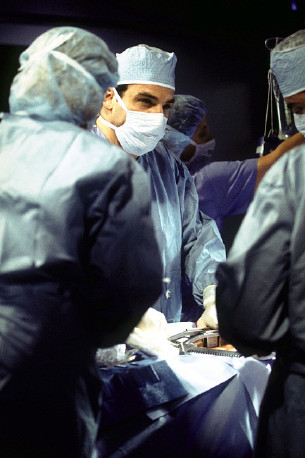face_mask: (117, 70, 171, 155)
